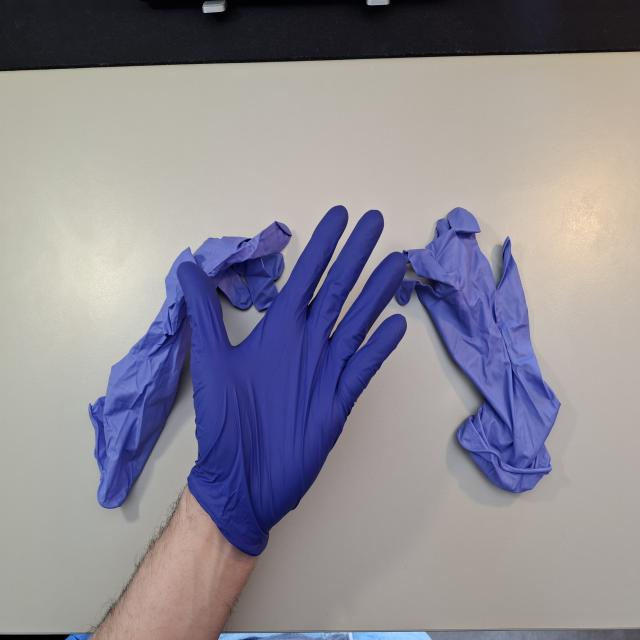glove_on: (173, 201, 412, 558)
